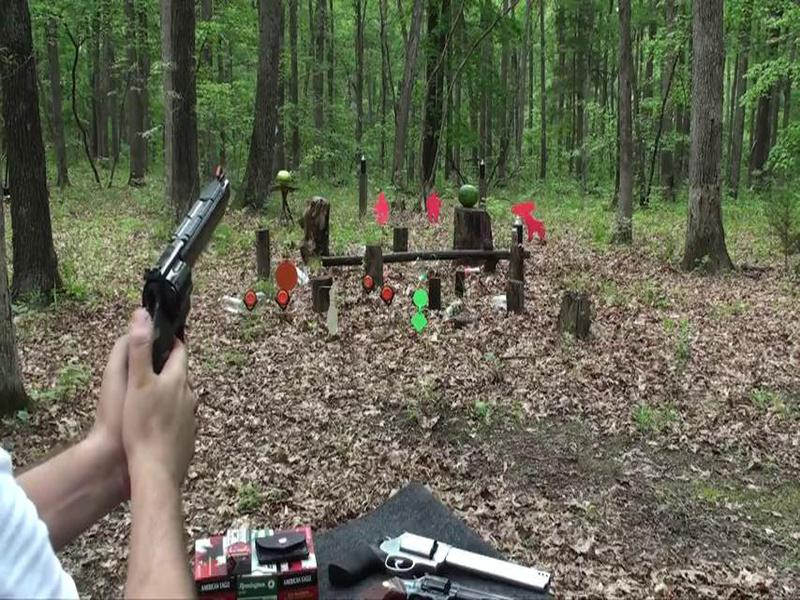Revolver: (127, 159, 238, 383)
